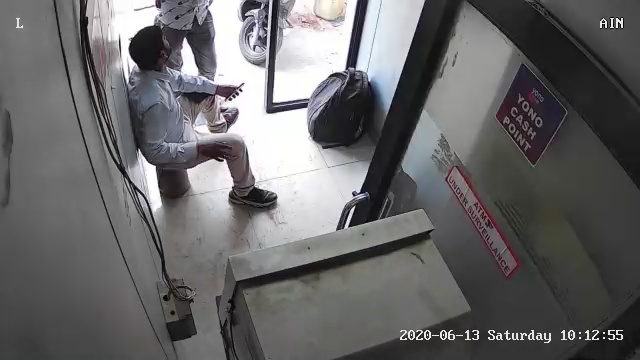open: (221, 2, 389, 130)
